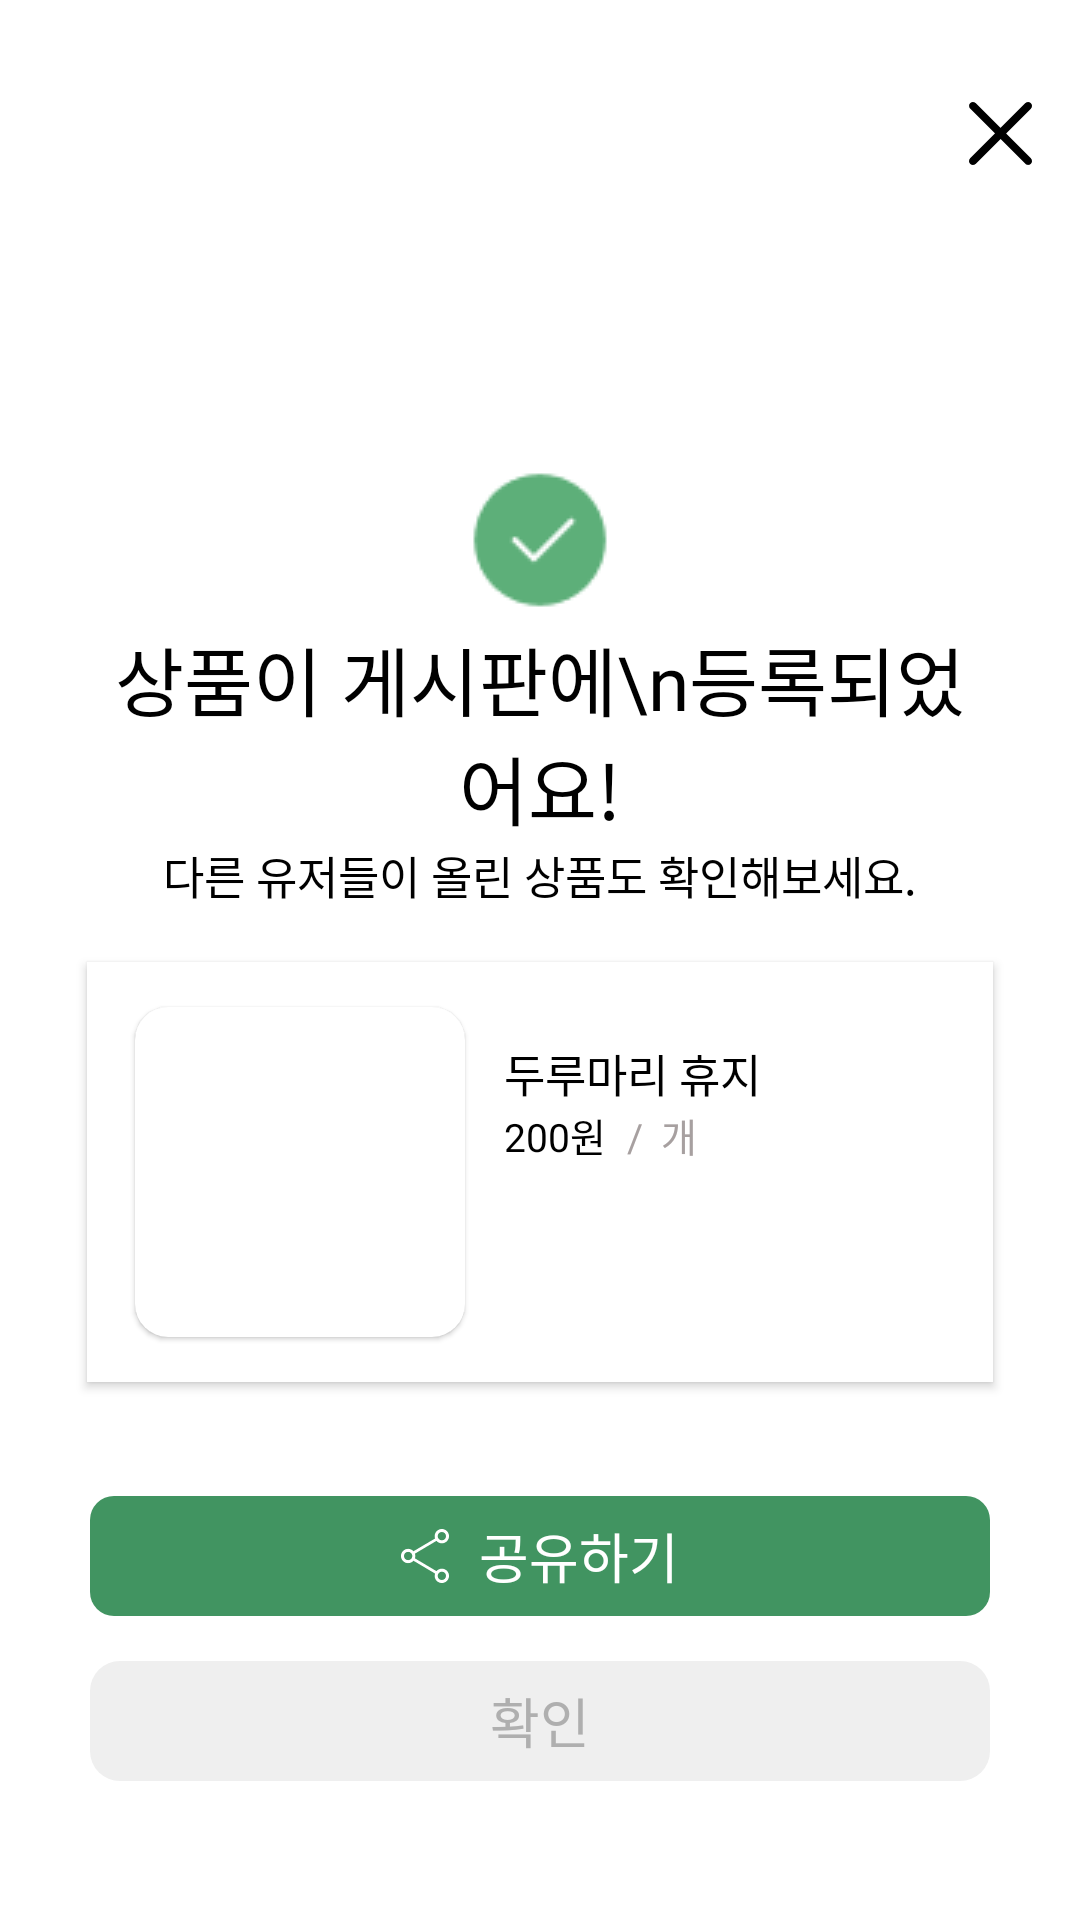

Icon click points for this 1080 × 1920 phone screenshot, format [x,y]:
close: [1000,133]
share: [425,1556]
